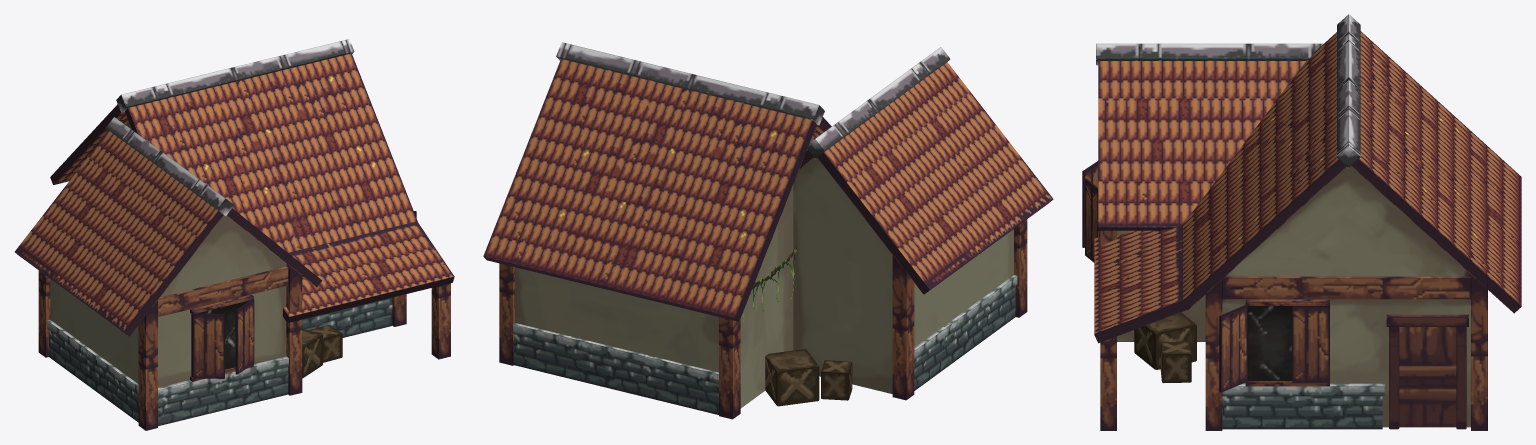
Rendered from HouseTest.fbx.
The picture shows the model from 3 angles, left to right: view 1: azimuth 30°, elevation 25°; view 2: azimuth 150°, elevation 25°; view 3: azimuth 270°, elevation 25°; orthographic projection. The views are drawn at different scales.
Visible parts, largest first — view 1: Roof, MainStructure_1, Beams, Beam, RoofCenter_1, RoofCenter, WindowBlinds_2, Beams_12, WindowBlinds_3, Window_Part_3, cube, Beams_11 (+2 smaller); view 2: Roof, MainStructure_1, MainStructure, Beams, Beam, RoofCenter_1, RoofCenter, cube_2, Beams_12, cube_3, Beams_11, Beams_18; view 3: Roof, MainStructure, Beams, Beam, RoofCenter, RoofCenter_1, Window_Part, WindowBlinds_1, WindowBlinds, cube, cube_1, Window (+3 smaller).
Part boxes in pixels (box(x1,y1,x2,y2)): Roof: box(15, 53, 454, 336); MainStructure_1: box(50, 215, 292, 387); Beams: box(157, 266, 392, 426); Beam: box(38, 268, 450, 430); RoofCenter_1: box(116, 39, 354, 112); RoofCenter: box(106, 117, 234, 216); WindowBlinds_2: box(193, 313, 224, 378); Beams_12: box(49, 330, 116, 405); WindowBlinds_3: box(235, 299, 254, 374); Window_Part_3: box(191, 300, 249, 376); cube: box(302, 329, 322, 378); Beams_11: box(47, 320, 116, 377); Roof: box(483, 59, 1053, 321); MainStructure_1: box(793, 157, 1013, 393); MainStructure: box(515, 137, 814, 408); Beams: box(512, 323, 718, 414); Beam: box(499, 219, 1027, 419); RoofCenter_1: box(556, 42, 824, 125); RoofCenter: box(807, 47, 950, 158); cube_2: box(765, 349, 819, 406); Beams_12: box(914, 307, 986, 390); cube_3: box(821, 360, 852, 400); Beams_11: box(914, 296, 988, 359); Beams_18: box(986, 286, 1015, 337); Roof: box(1094, 31, 1521, 343); MainStructure: box(1221, 166, 1474, 427); Beams: box(1222, 276, 1470, 429); Beam: box(1100, 230, 1487, 430); RoofCenter: box(1096, 43, 1323, 65); RoofCenter_1: box(1337, 14, 1360, 167); Window_Part: box(1247, 306, 1292, 381); WindowBlinds_1: box(1292, 306, 1329, 382); WindowBlinds: box(1219, 305, 1247, 392); cube: box(1134, 312, 1196, 369); cube_1: box(1160, 341, 1191, 383); Window: box(1245, 299, 1329, 386).
Size of the model in its own units: 1403 by 993 by 1303.
